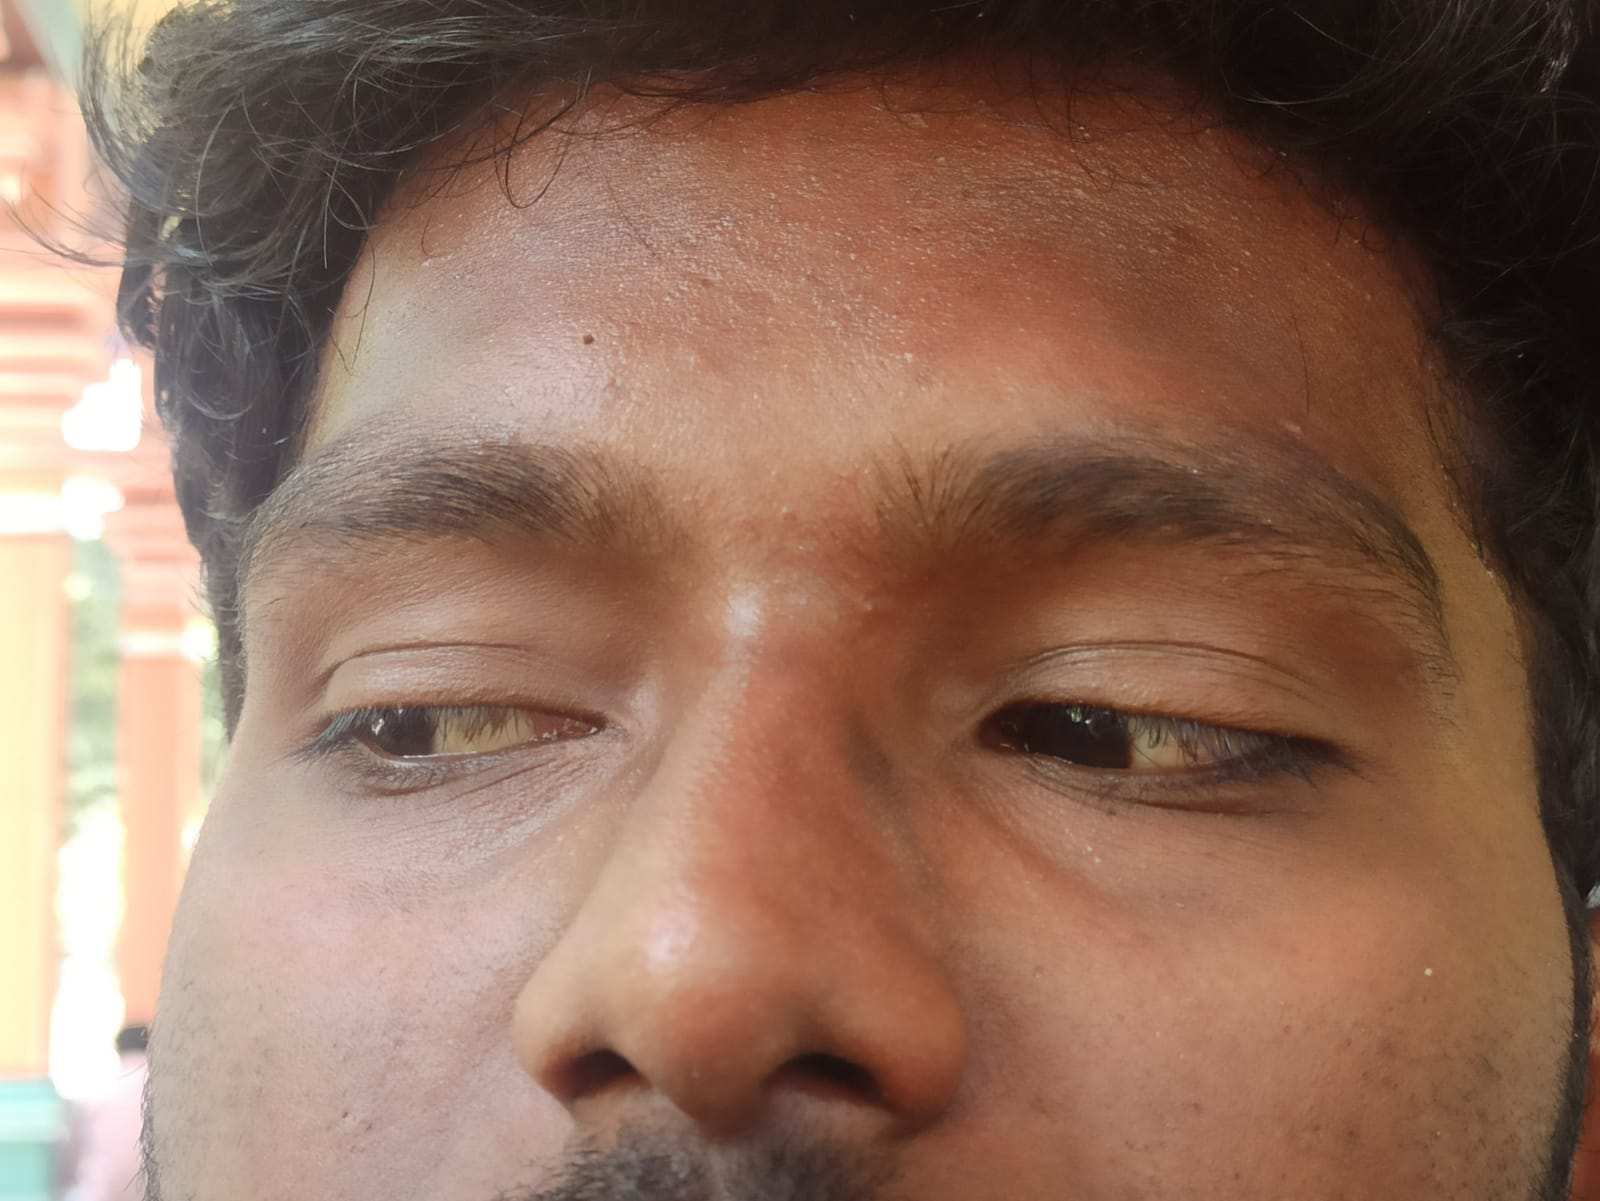EYE RIGHT: (825, 476, 1456, 935), (168, 476, 693, 901)
